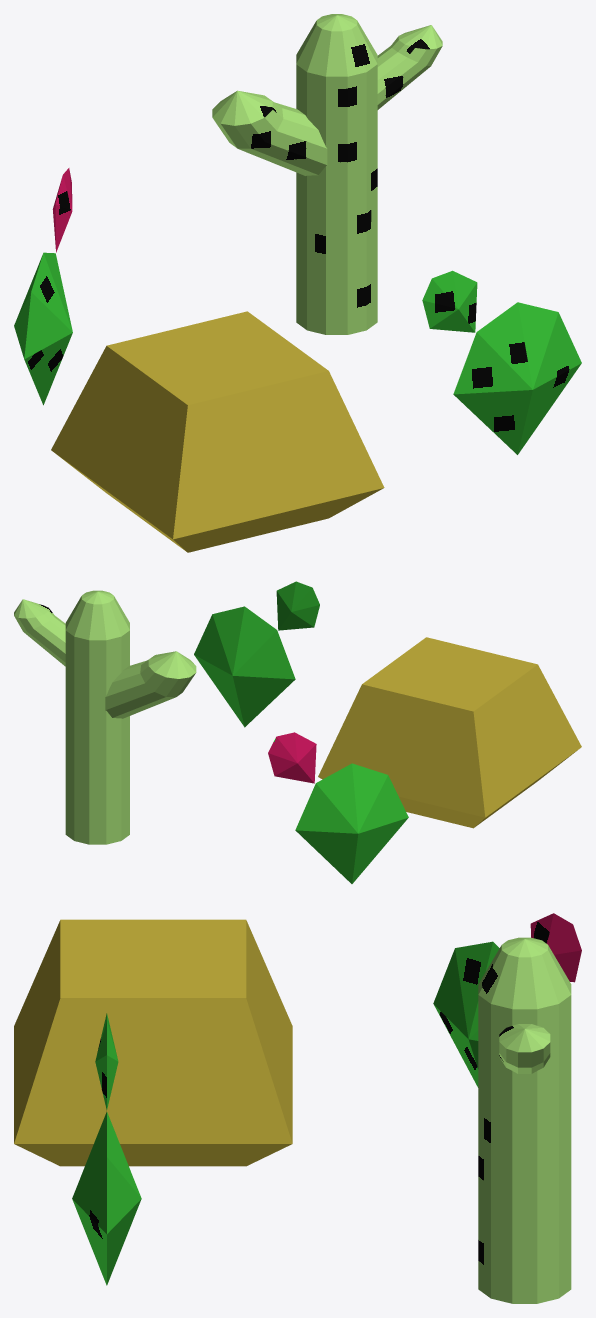
The model's file is shrubland.obj.
3 views of the same model, one above another, from view 1: azimuth 30°, elevation 25°; view 2: azimuth 150°, elevation 25°; view 3: azimuth 270°, elevation 25° (orthographic). The views are drawn at different scales.
Visible parts, largest first — view 1: cuboid, cylinder, pyramid; view 2: cuboid, cylinder, pyramid; view 3: cuboid, cylinder, pyramid.
Part boxes in pixels (x1,y1,x2,y2): cuboid: (51,311,384,552); cylinder: (212,14,442,334); pyramid: (14,168,581,454); cuboid: (318,637,581,828); cylinder: (14,590,196,844); pyramid: (194,581,408,883); cuboid: (14,919,292,1166); cylinder: (478,937,571,1303); pyramid: (72,913,581,1285).
Bounding box in the file's own units: 0.8697 × 0.5172 × 0.7643.
Materials: 1 (1 with a texture image).
